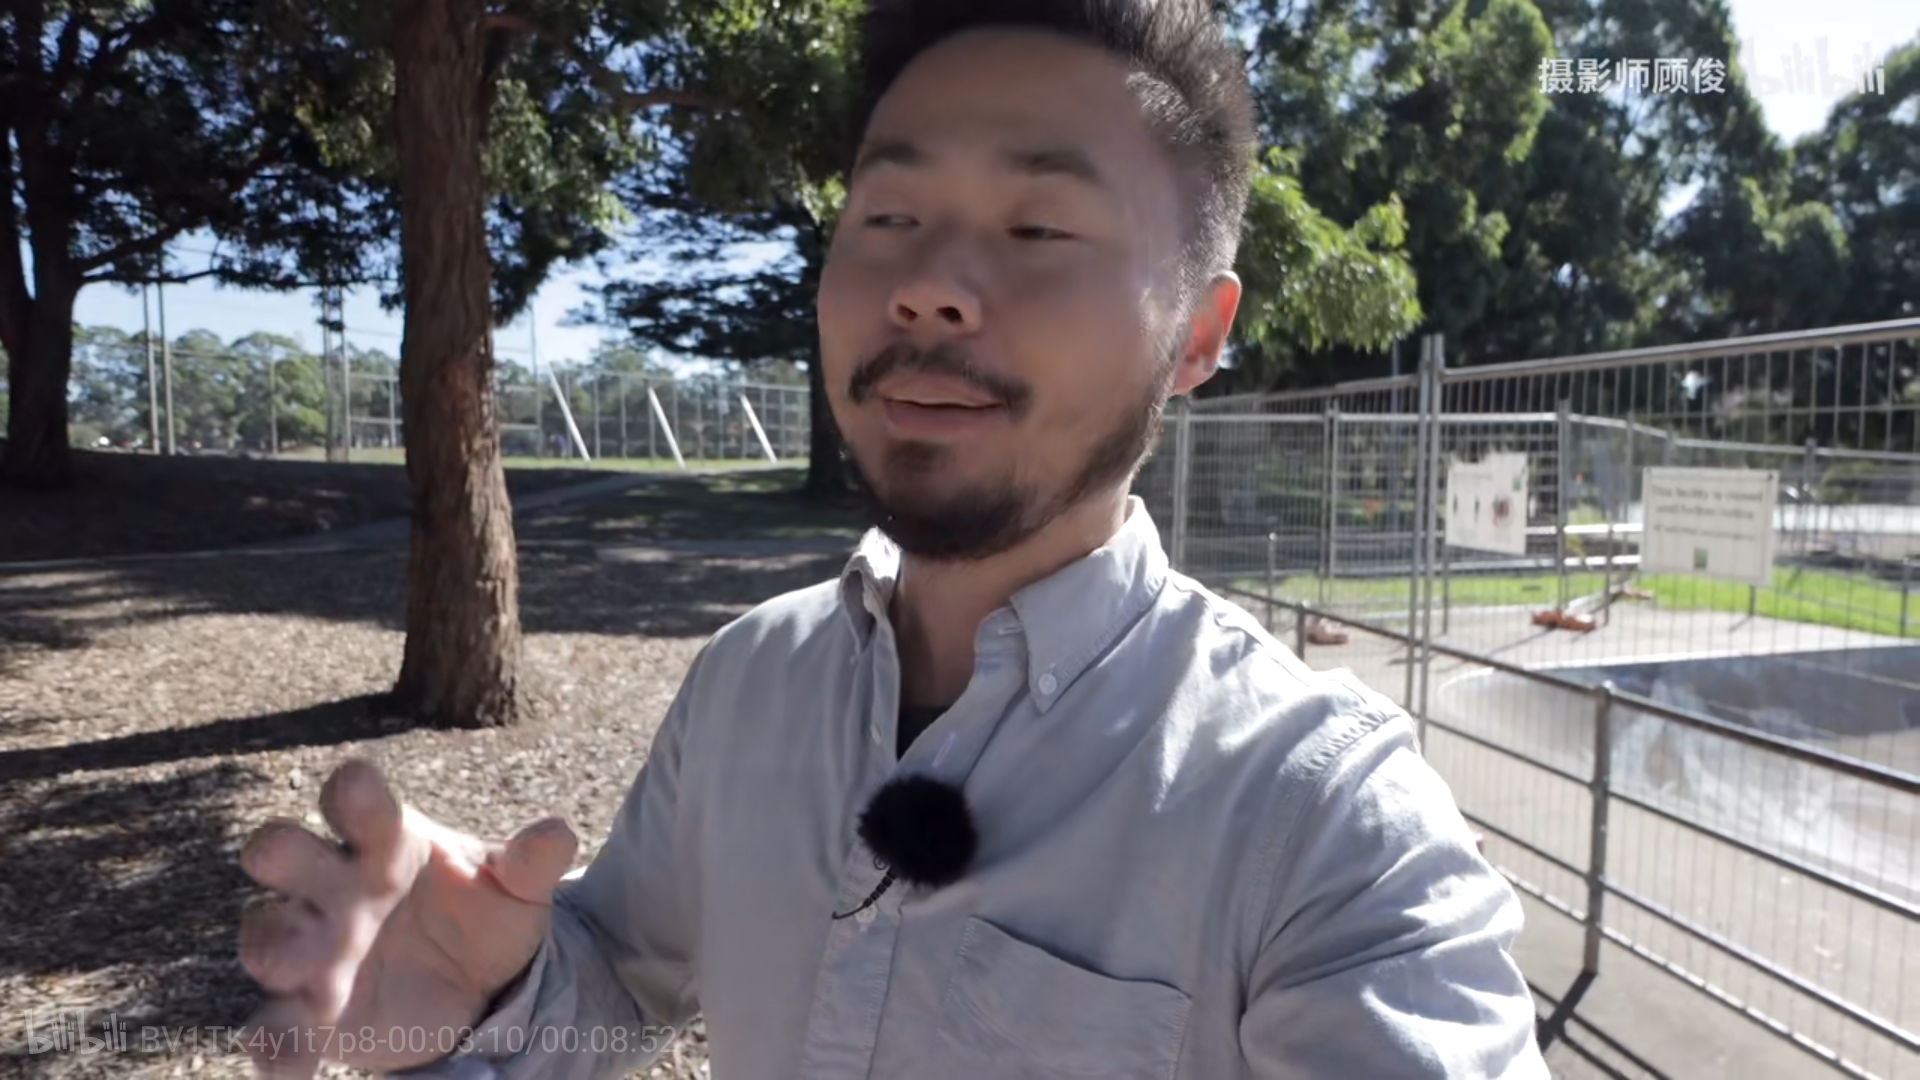noWear: (815, 121, 1185, 564)
